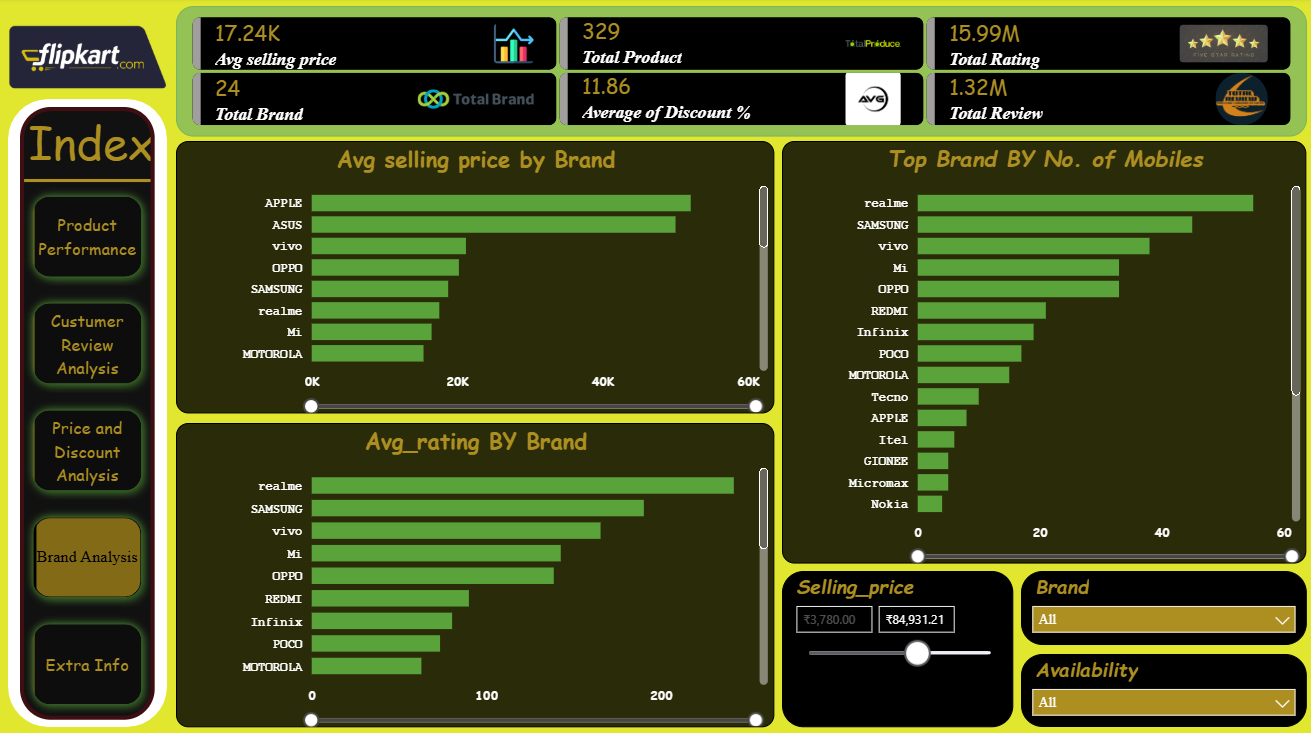

What the dashboard file says about the page in this screenshot:
{"tool":"powerbi","page":{"name":"Brand Analysis","canvas":[1280,720],"ordinal":3},"visuals":[{"type":"shape","box":[9.7,98.2,154.7,610.8],"z":0},{"type":"image","box":[9.7,0,178,114.8],"z":1000},{"type":"cardVisual","fields":{"Data":["flipkart_smartphones_2022_03_26_2333_IST.Avg selling price","flipkart_smartphones_2022_03_26_2333_IST.Total Product","flipkart_smartphones_2022_03_26_2333_IST.Total Rating","flipkart_smartphones_2022_03_26_2333_IST.Total Brand","Avg(flipkart_smartphones_2022_03_26_2333_IST.Discount %)","flipkart_smartphones_2022_03_26_2333_IST.Total Review"]},"box":[187.7,7.8,1085.5,127.4],"z":2000},{"type":"slicer","fields":{"Values":["flipkart_smartphones_2022_03_26_2333_IST.brand"]},"box":[995,557,278,72],"z":3000},{"type":"slicer","fields":{"Values":["flipkart_smartphones_2022_03_26_2333_IST.availability"]},"box":[995,638,278,71],"z":4000},{"type":"slicer","fields":{"Values":["flipkart_smartphones_2022_03_26_2333_IST.selling_price"]},"box":[772,557,213,152],"z":5000},{"type":"barChart","title":"Avg selling price by Brand","fields":{"Category":["flipkart_smartphones_2022_03_26_2333_IST.brand"],"Y":["flipkart_smartphones_2022_03_26_2333_IST.Avg selling price"]},"box":[188,139,567,265],"z":6000},{"type":"barChart","title":"Avg_rating BY Brand","fields":{"Category":["flipkart_smartphones_2022_03_26_2333_IST.brand"],"Y":["Sum(flipkart_smartphones_2022_03_26_2333_IST.avg_rating)"]},"box":[188,417,567,292],"z":7000},{"type":"clusteredBarChart","title":"Top Brand BY No. of Mobiles","fields":{"Category":["flipkart_smartphones_2022_03_26_2333_IST.brand"],"Y":["CountNonNull(flipkart_smartphones_2022_03_26_2333_IST.product_id)"]},"box":[763,139,510,411],"z":8000},{"type":"pageNavigator","title":"Index","box":[21,106,131,596],"z":9000}]}

Visuals, with their boxes in screenshot pixels (x1, y1, x2, y2), scaled from the page's 1280x720 canvas onto the 1311x733 screenshot:
shape: [left=10, top=100, right=168, bottom=722]
image: [left=10, top=0, right=192, bottom=117]
cardVisual - flipkart_smartphones_2022_03_26_2333_IST.Avg selling price x flipkart_smartphones_2022_03_26_2333_IST.Total Product: [left=192, top=8, right=1304, bottom=138]
slicer - flipkart_smartphones_2022_03_26_2333_IST.brand: [left=1019, top=567, right=1304, bottom=640]
slicer - flipkart_smartphones_2022_03_26_2333_IST.availability: [left=1019, top=650, right=1304, bottom=722]
slicer - flipkart_smartphones_2022_03_26_2333_IST.selling_price: [left=791, top=567, right=1009, bottom=722]
"Avg selling price by Brand" barChart: [left=193, top=142, right=773, bottom=411]
"Avg_rating BY Brand" barChart: [left=193, top=425, right=773, bottom=722]
"Top Brand BY No. of Mobiles" clusteredBarChart: [left=781, top=142, right=1304, bottom=560]
"Index" pageNavigator: [left=22, top=108, right=156, bottom=715]
